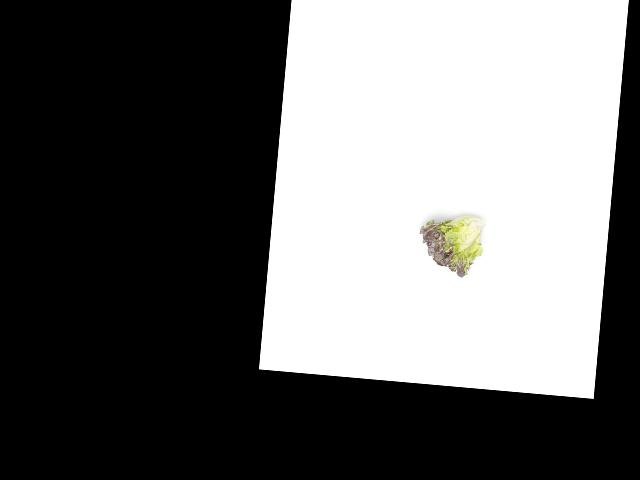lettuce: (412, 210, 488, 278)
